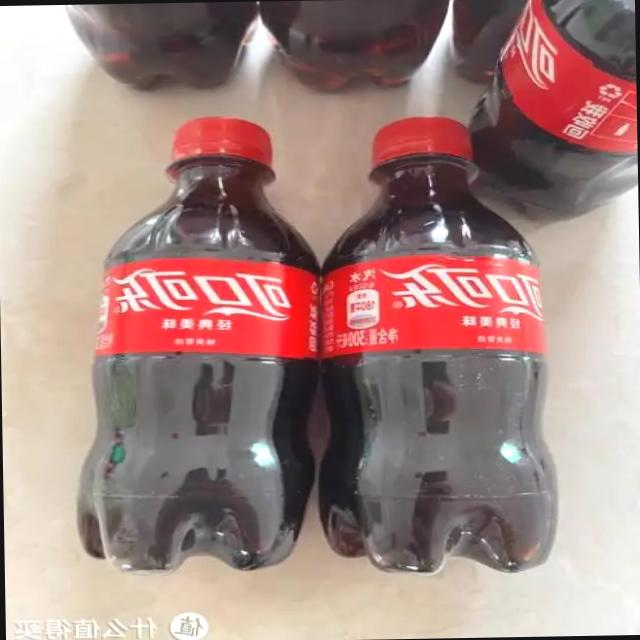bottle: (67, 114, 328, 582), (312, 112, 564, 584), (460, 0, 638, 226), (258, 0, 455, 98), (60, 2, 256, 94), (448, 0, 536, 87)
